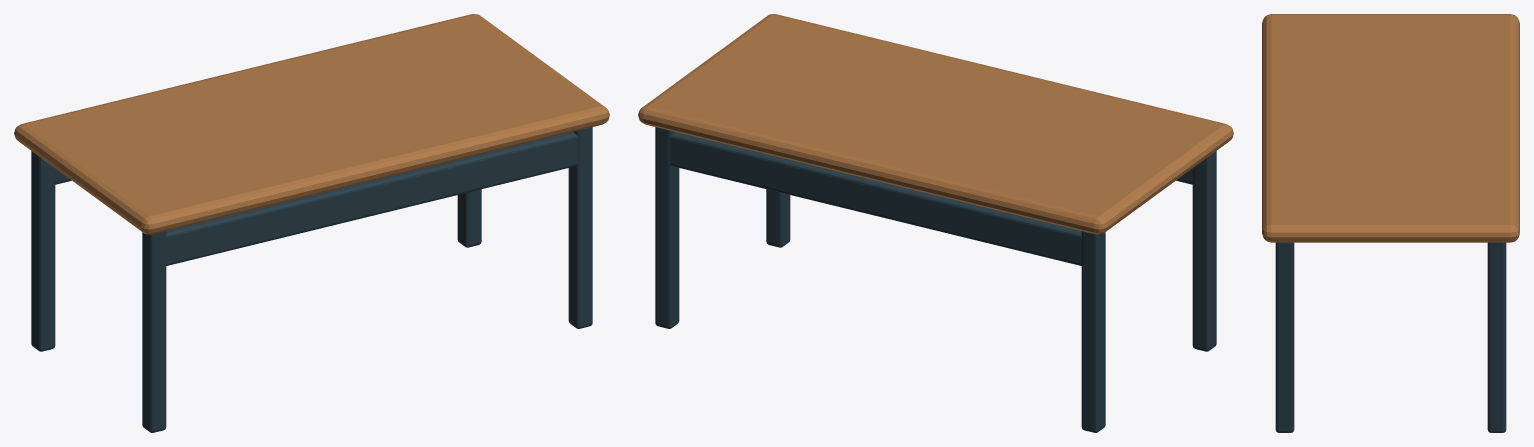
Rendered from ReviewDesk.fbx.
The picture shows the model from 3 angles, left to right: view 1: azimuth 30°, elevation 25°; view 2: azimuth 150°, elevation 25°; view 3: azimuth 270°, elevation 25°; orthographic projection. The views are drawn at different scales.
Parts seen in each view (by area): view 1: Oak worktop.002, Apron.004, Leg.008, Leg.009, Leg.010, Leg.011; view 2: Oak worktop.002, Apron.005, Leg.009, Leg.008, Leg.011, Leg.010; view 3: Oak worktop.002, Leg.010, Leg.011.
Boxes of the visible parts, left/top/right/bottom form: Oak worktop.002: left=14, top=14, right=609, bottom=234; Apron.004: left=166, top=132, right=577, bottom=265; Leg.008: left=142, top=231, right=166, bottom=432; Leg.009: left=31, top=151, right=55, bottom=351; Leg.010: left=568, top=127, right=592, bottom=328; Leg.011: left=457, top=189, right=481, bottom=247; Oak worktop.002: left=638, top=14, right=1233, bottom=234; Apron.005: left=670, top=132, right=1081, bottom=265; Leg.009: left=1081, top=231, right=1105, bottom=432; Leg.008: left=1192, top=151, right=1216, bottom=351; Leg.011: left=655, top=127, right=679, bottom=328; Leg.010: left=766, top=189, right=790, bottom=247; Oak worktop.002: left=1262, top=14, right=1519, bottom=242; Leg.010: left=1275, top=242, right=1294, bottom=432; Leg.011: left=1487, top=242, right=1506, bottom=432.
Bounding box in the file's own units: 1.8 × 0.8125 × 0.9.
